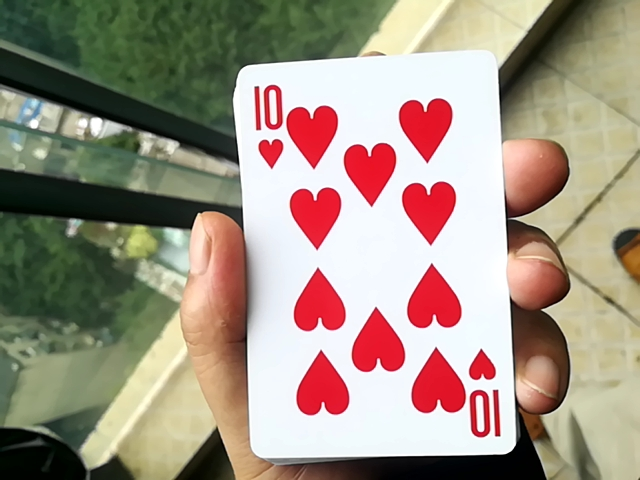hx 10: (227, 35, 511, 455)
